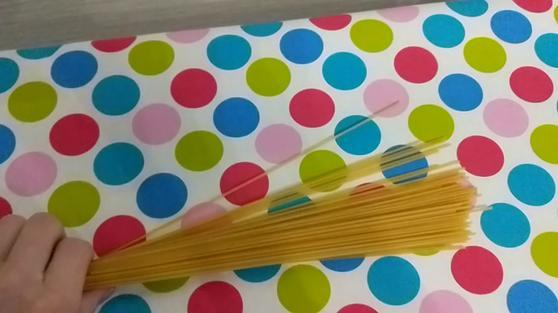spaghetti: (77, 100, 469, 298)
